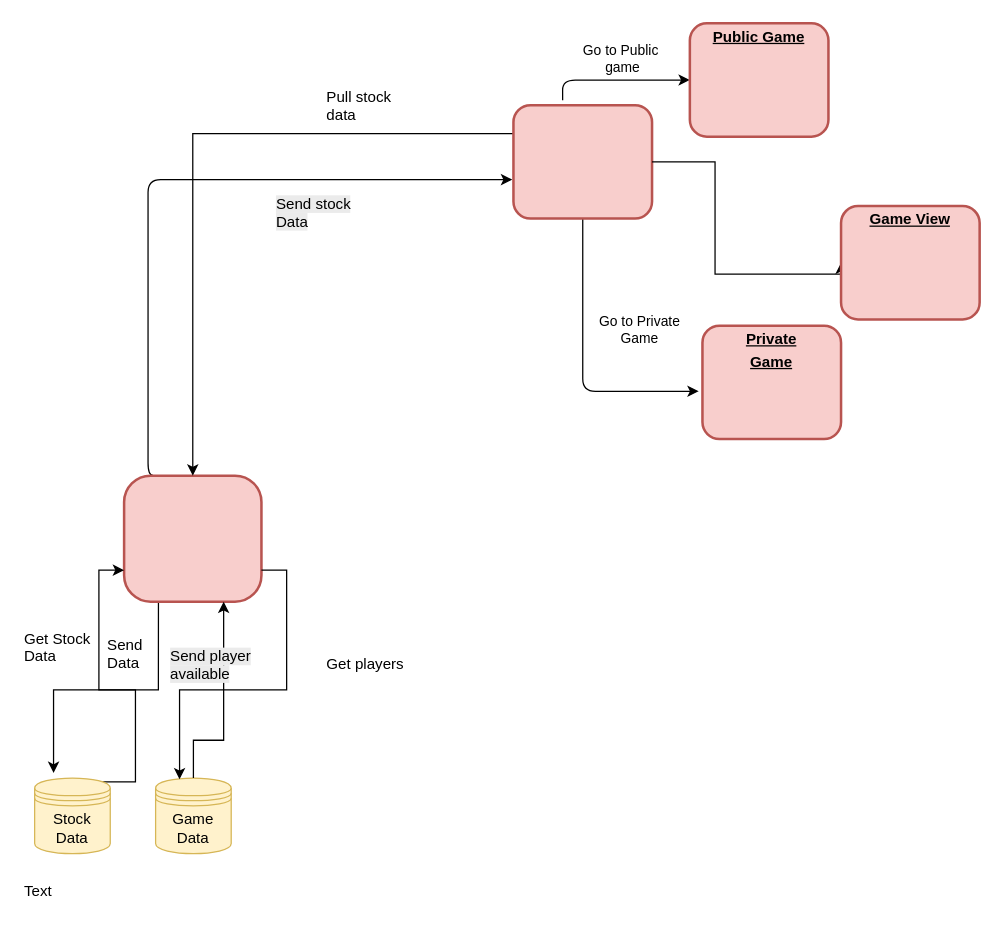
Image size: 1002x925. Some labels were removed from this diagram. Each missing label, with the centre of its shape:
"Data Base Connection" goes at (192,538).
"Game Controller" goes at (582,161).
